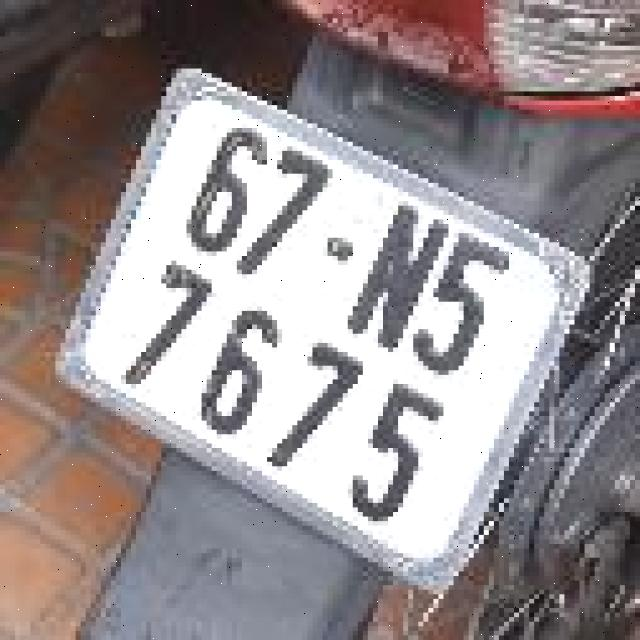5: (325, 365, 464, 541), (399, 216, 527, 390)
6: (174, 294, 301, 454), (168, 114, 285, 272)
7: (246, 324, 377, 490), (105, 245, 231, 404), (218, 139, 347, 292)
N: (333, 189, 460, 372)
